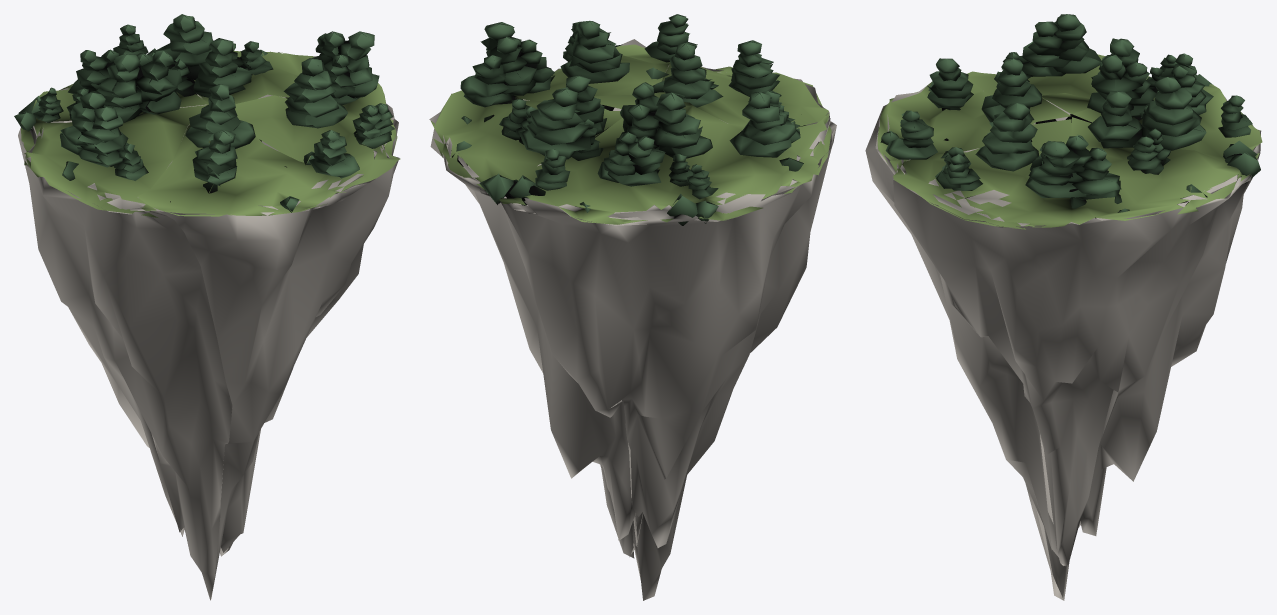
The model's file is island_lo.glb.
The picture shows the model from 3 angles, left to right: view 1: azimuth 30°, elevation 25°; view 2: azimuth 150°, elevation 25°; view 3: azimuth 270°, elevation 25°; orthographic projection.
Visible parts, largest first — view 1: Island; view 2: Island; view 3: Island.
Boxes of the visible parts, x1=… form: Island: x1=14, y1=14, x2=400, y2=600; Island: x1=429, y1=14, x2=836, y2=600; Island: x1=865, y1=14, x2=1262, y2=600.
Bounding box in the file's own units: 2.04 × 3.03 × 2.03.
